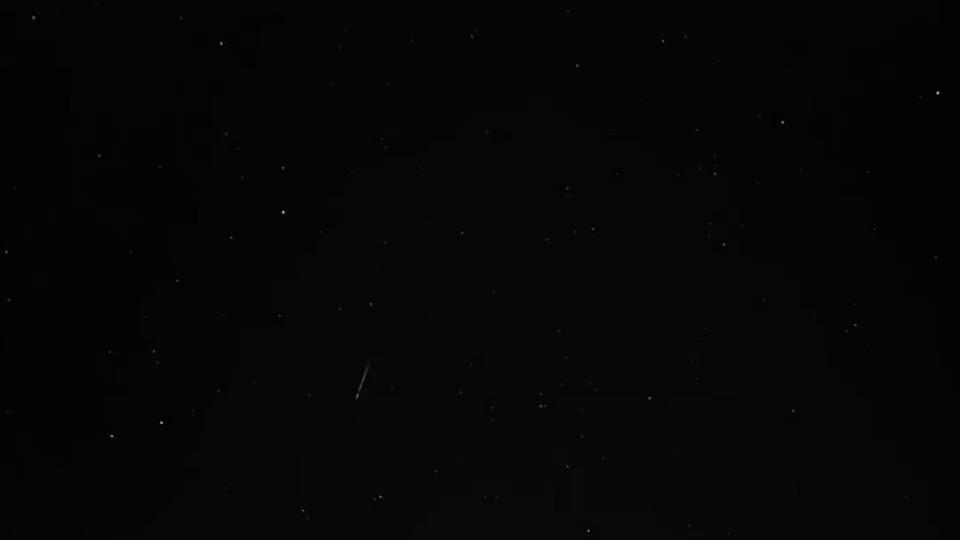meteorite: (310, 359, 413, 403)
